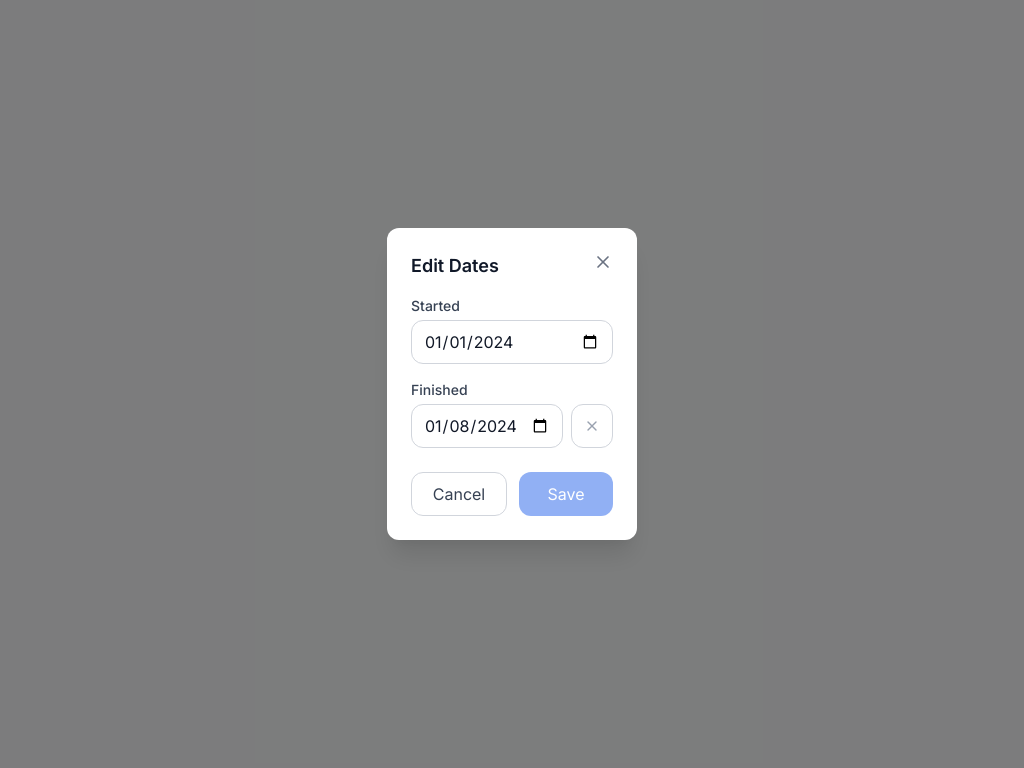
Test case: EditDatesModal › clears finished date when clear button clicked
Click the button named "Clear finished date" at (592, 426), box [571, 404, 613, 448]
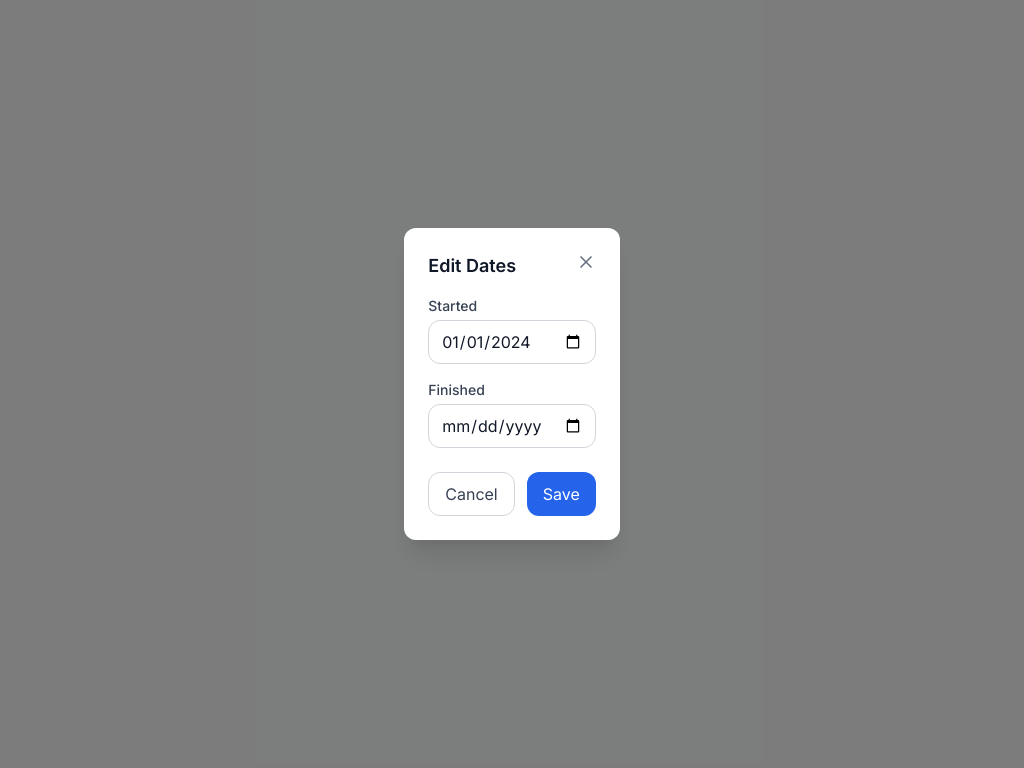
Expected: the date field labelled "Finished" is empty, [428, 404, 596, 448]
